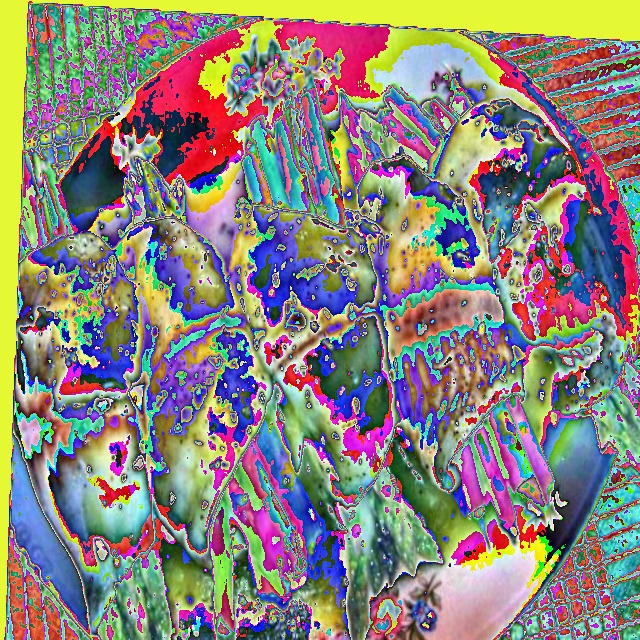background: (14, 72, 639, 639)
